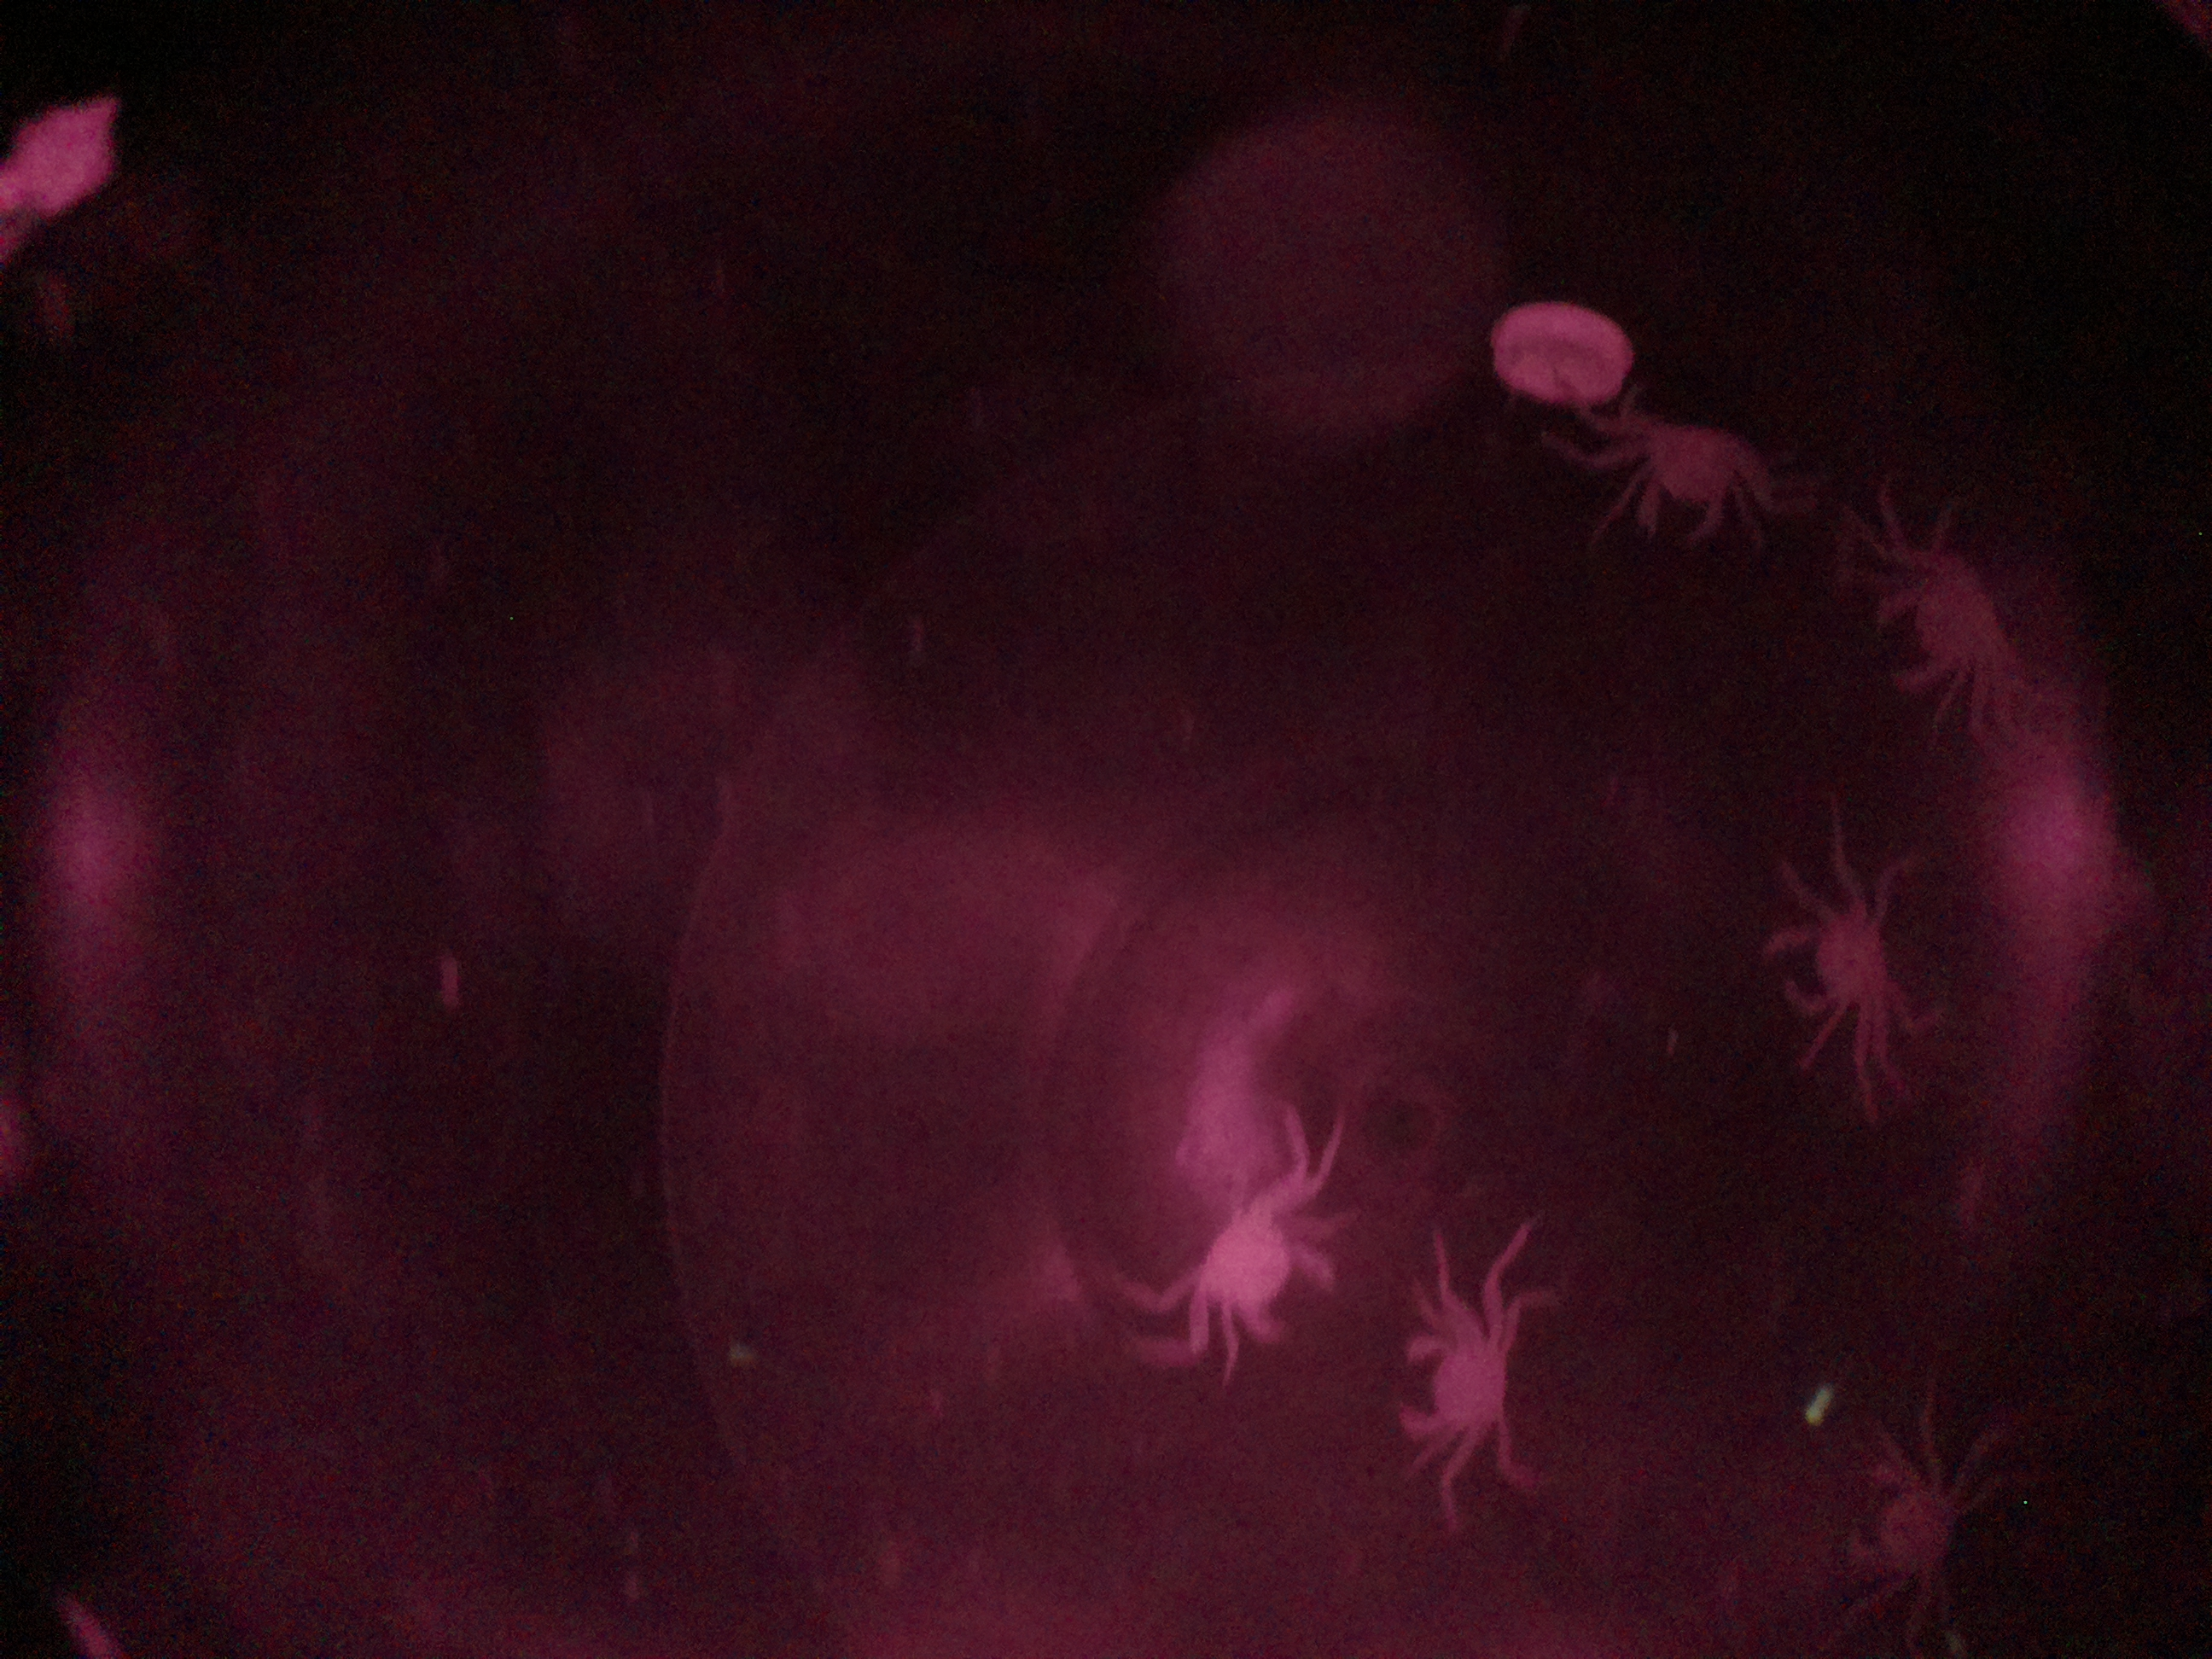Crab: (1162, 1157, 1346, 1371), (1740, 870, 1933, 1049), (1378, 1277, 1529, 1478), (1583, 394, 1756, 551)
